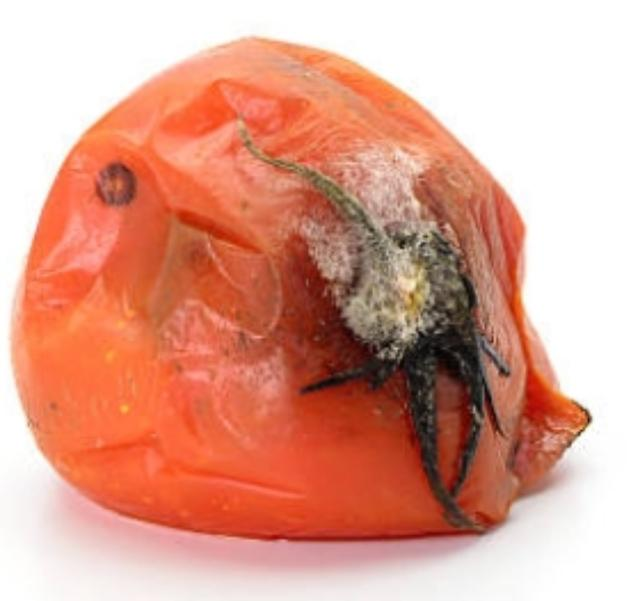defect: (11, 30, 598, 539)
